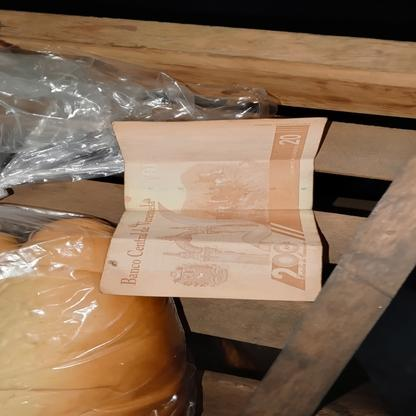vef_back: (98, 116, 328, 302)
